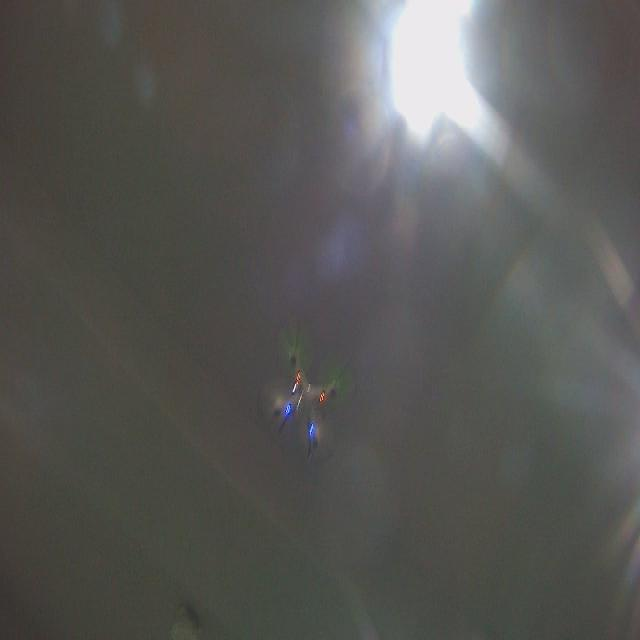drone: (252, 312, 358, 467)
